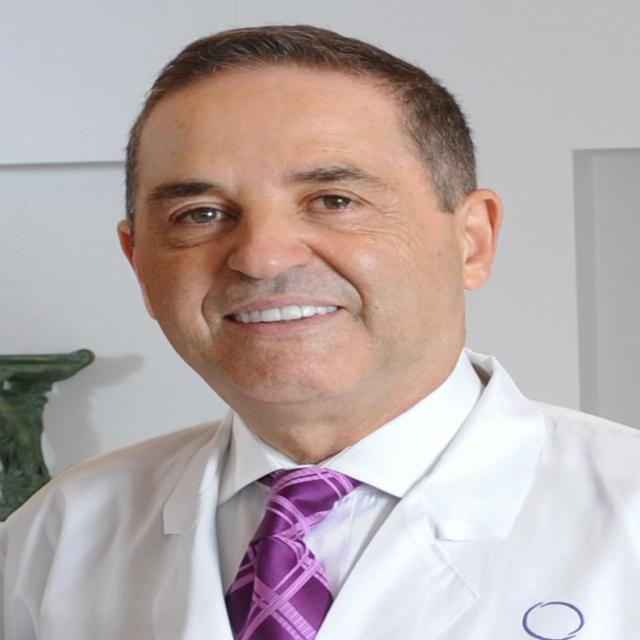nomask: (134, 70, 454, 400)
